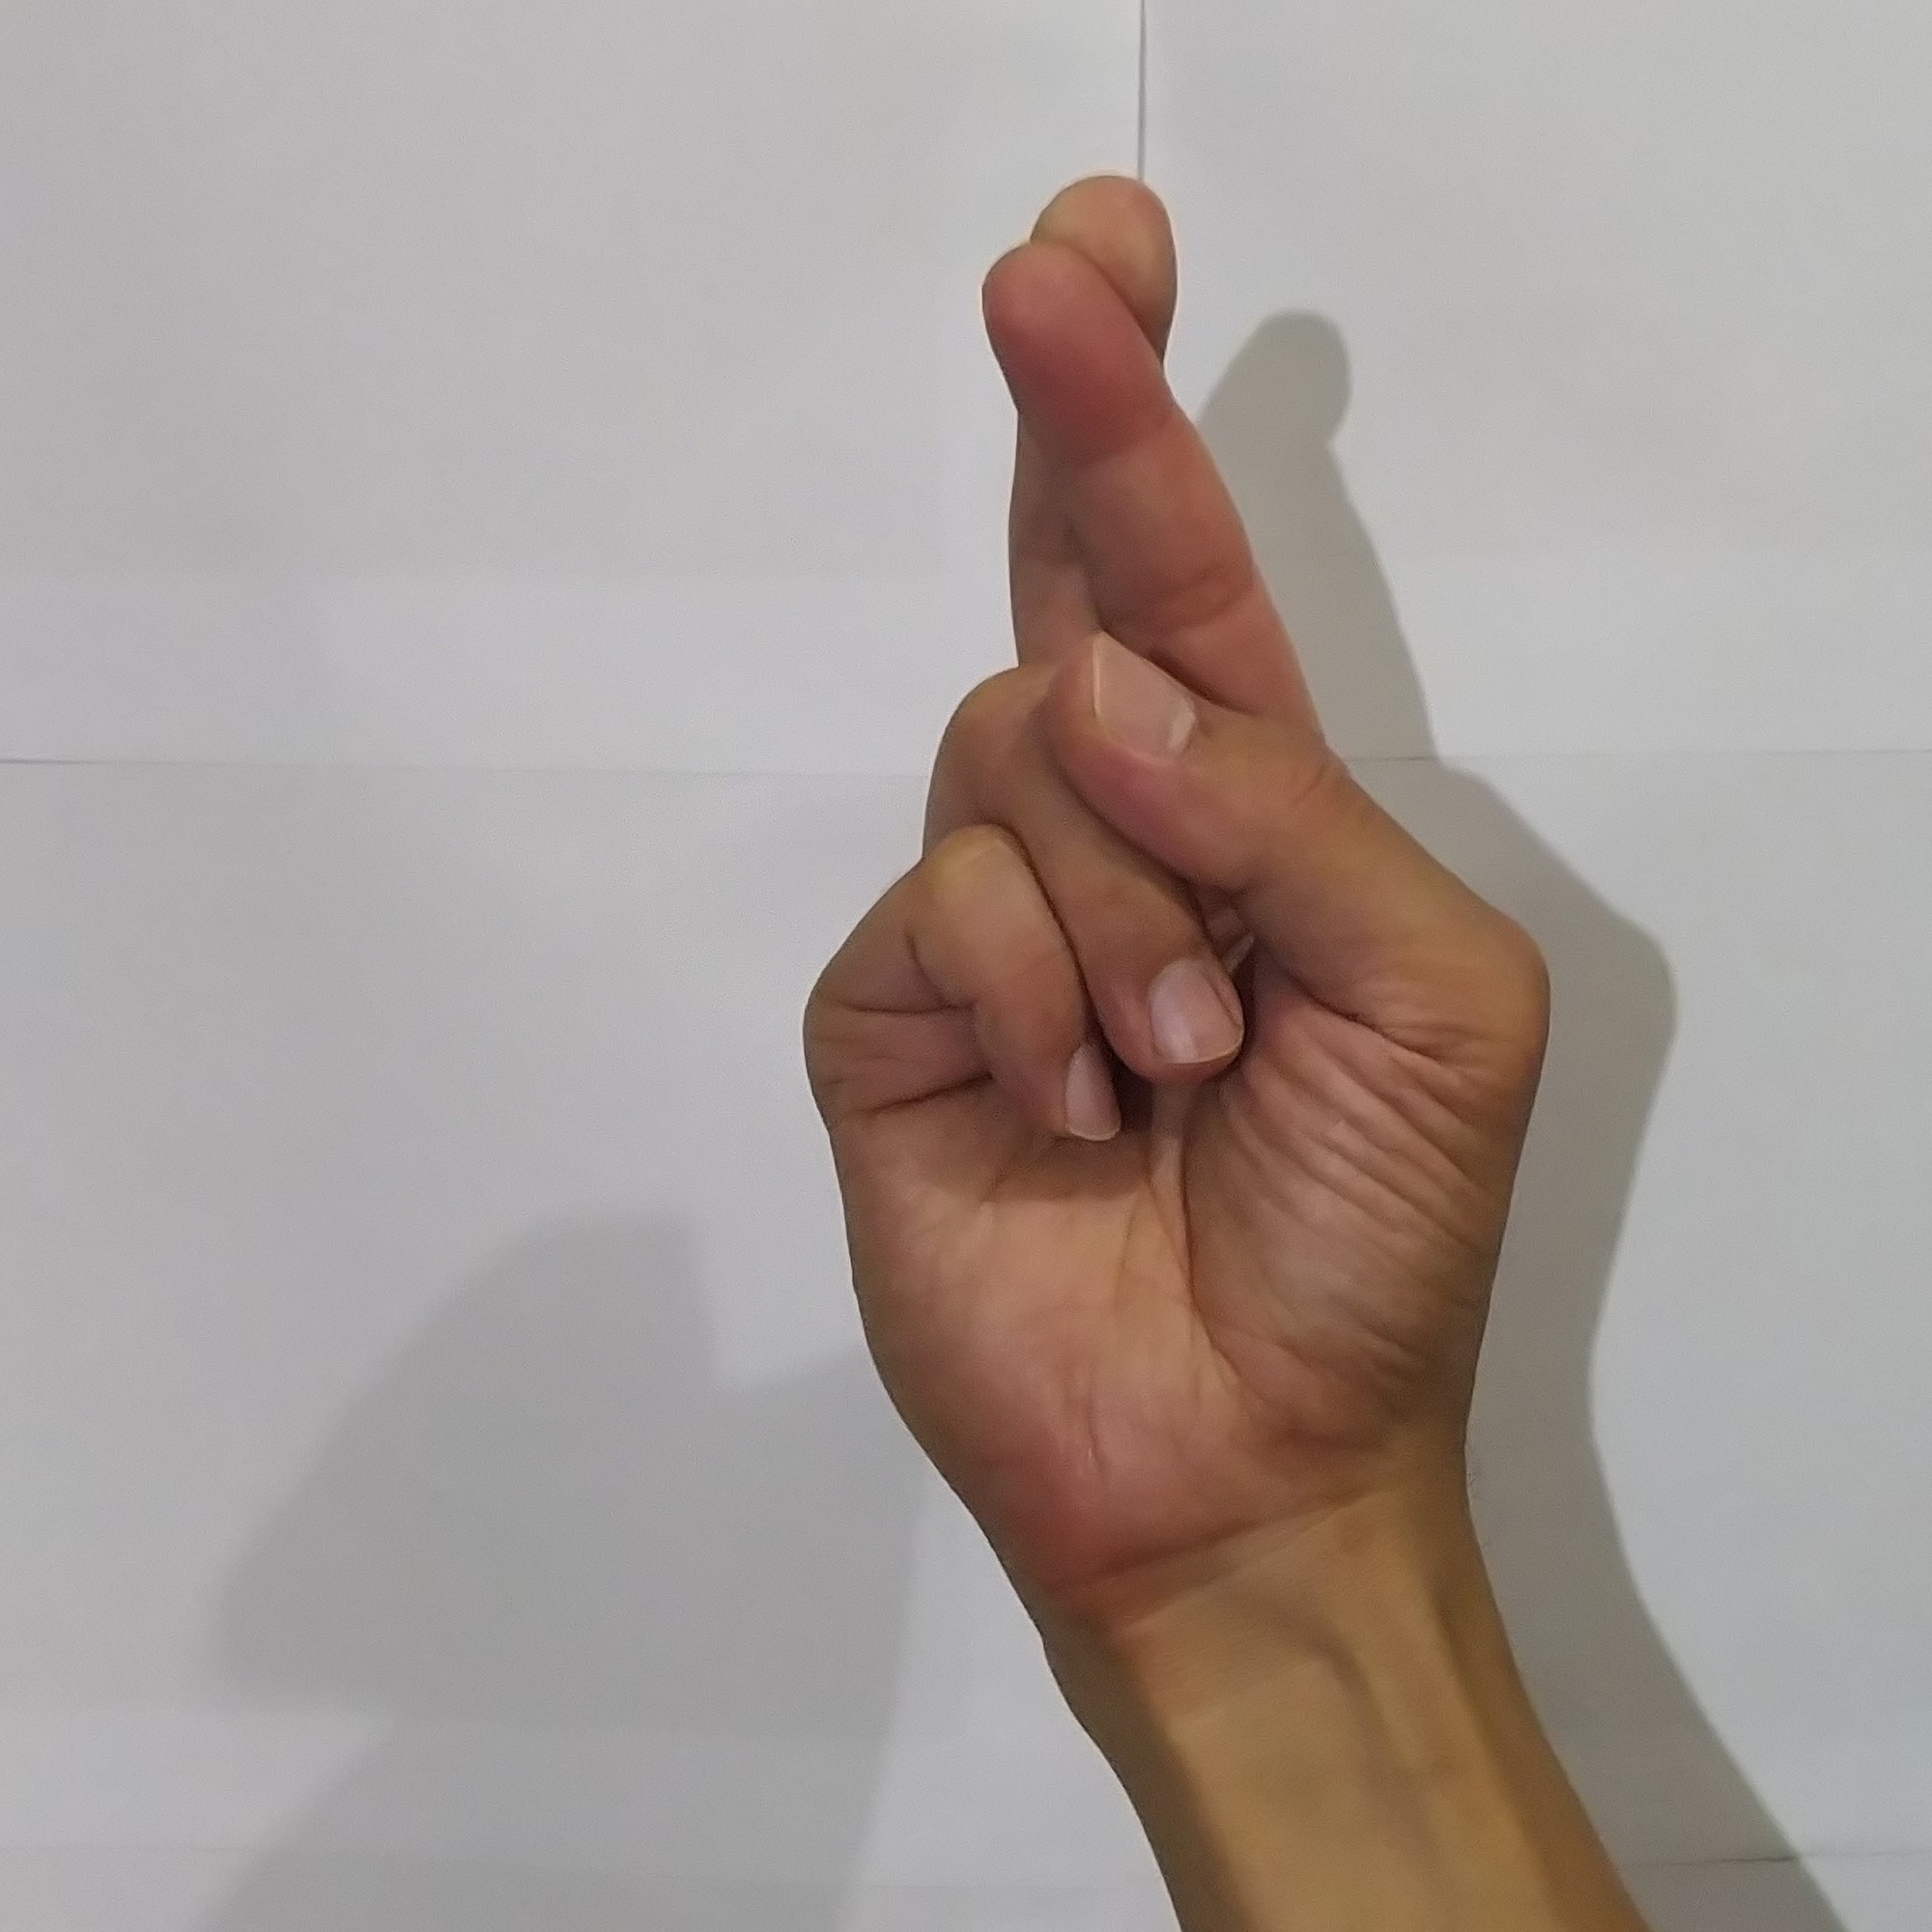R: (768, 145, 1576, 1537)
